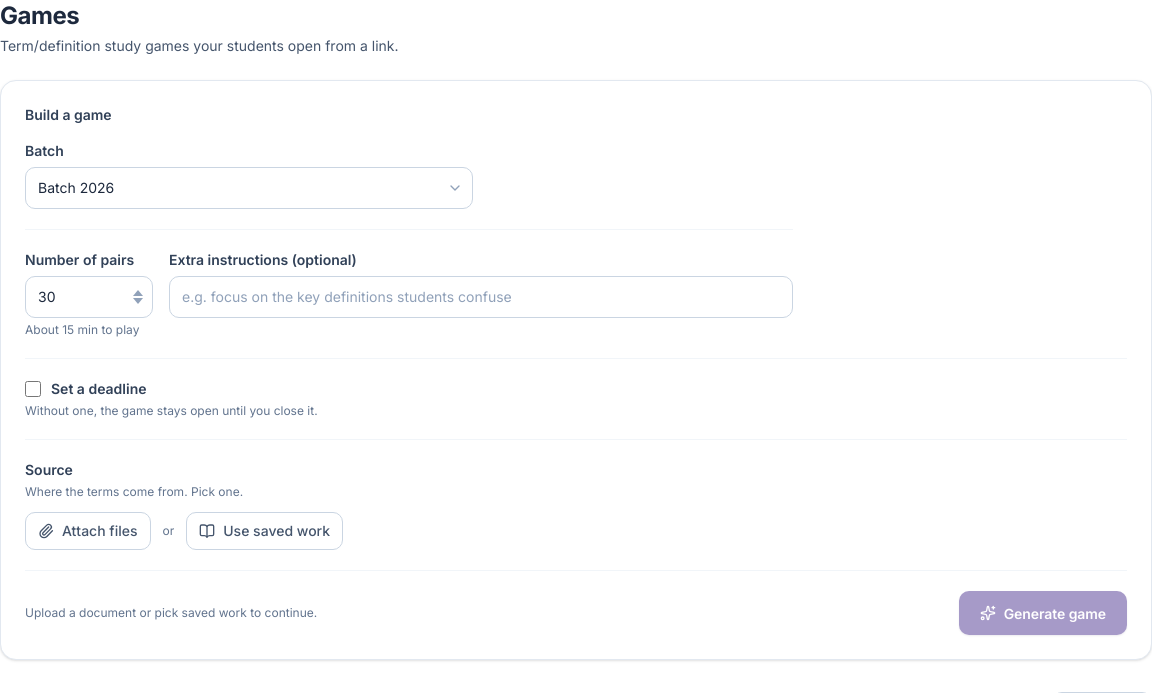
Test: Games — source picker › closes the dialog on a pick and shows the chosen source on the form
Click the button "Use saved work": (265,531) 186,512 -> 343,550
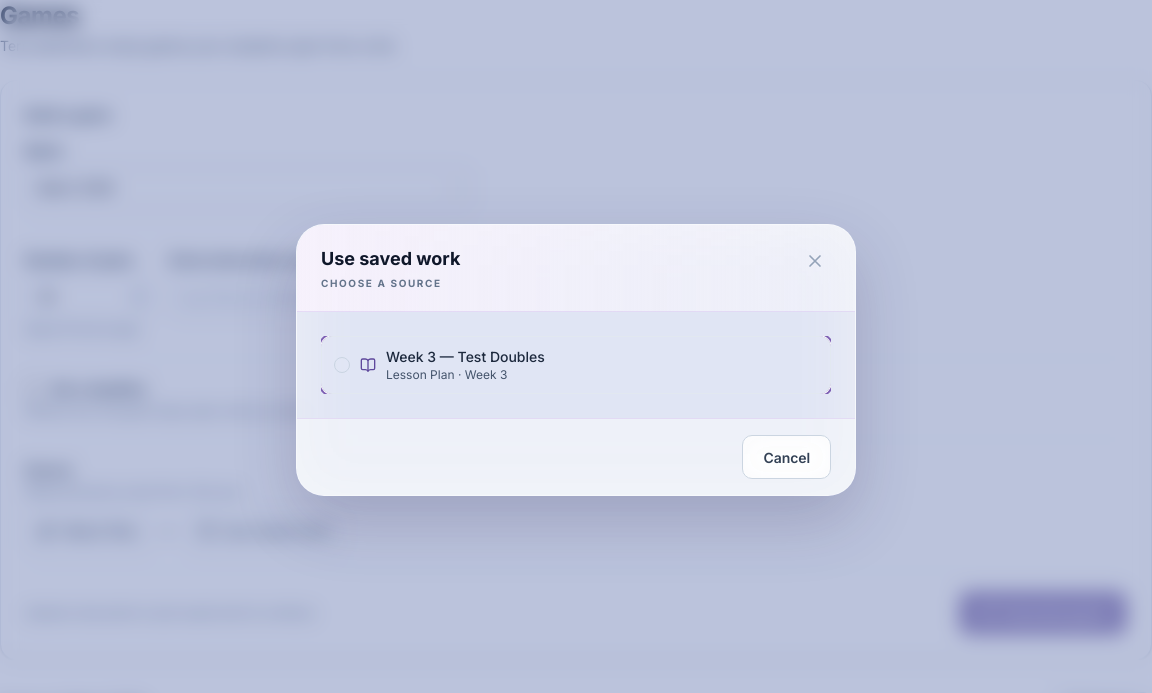
Click the radio button labelled "Week 3 — Test Doubles Lesson Plan · Week 3": (465,356) 321,336 -> 831,394
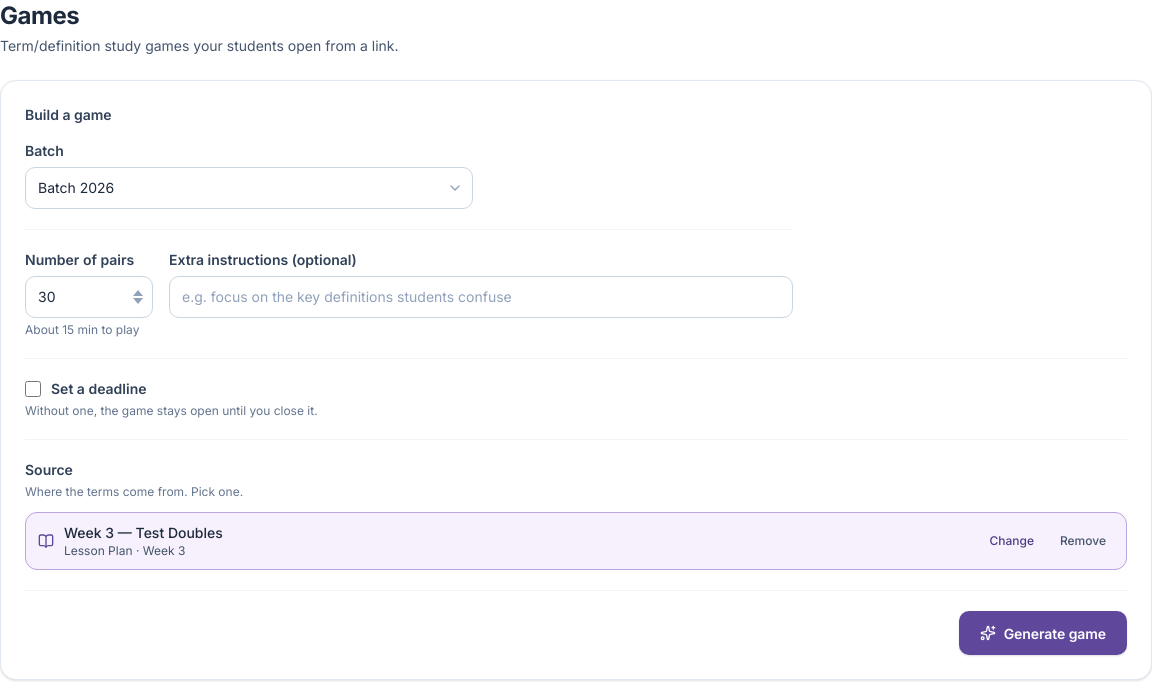
expect the text "Week 3 — Test Doubles" is shown: met, box 64,524 -> 223,541
expect the radio button is gone: met
expect the button "Generate game" is enabled: met, box 959,611 -> 1127,655
